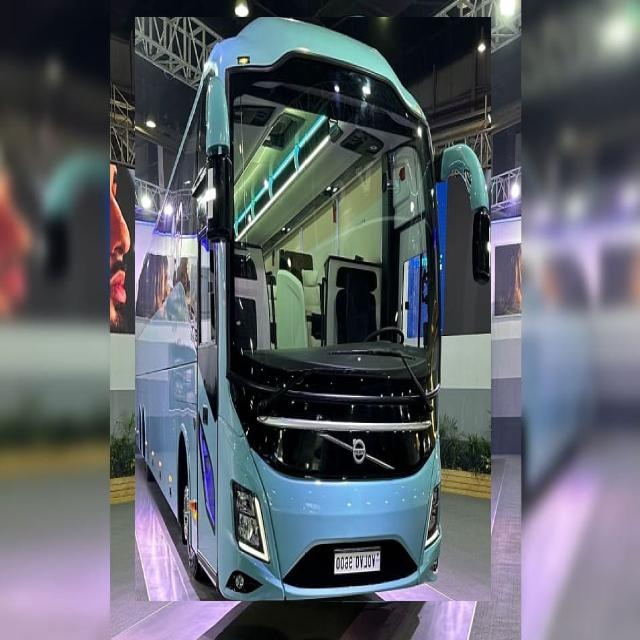bus: (135, 17, 491, 601)
